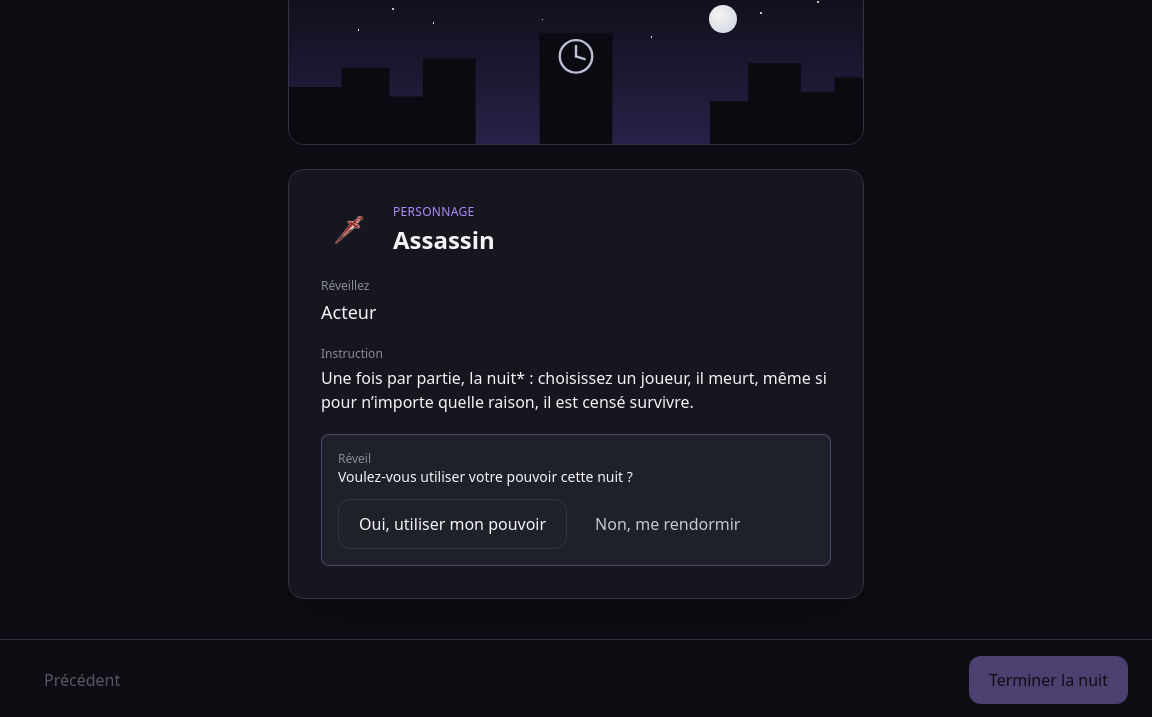
Bad Moon Rising - pouvoirs uniques › propose d’abord le choix Oui / Non au assassin
(page scrolled)
Step 1. Click the button "Oui, utiliser mon pouvoir" → (453, 524), box [338, 499, 567, 549]
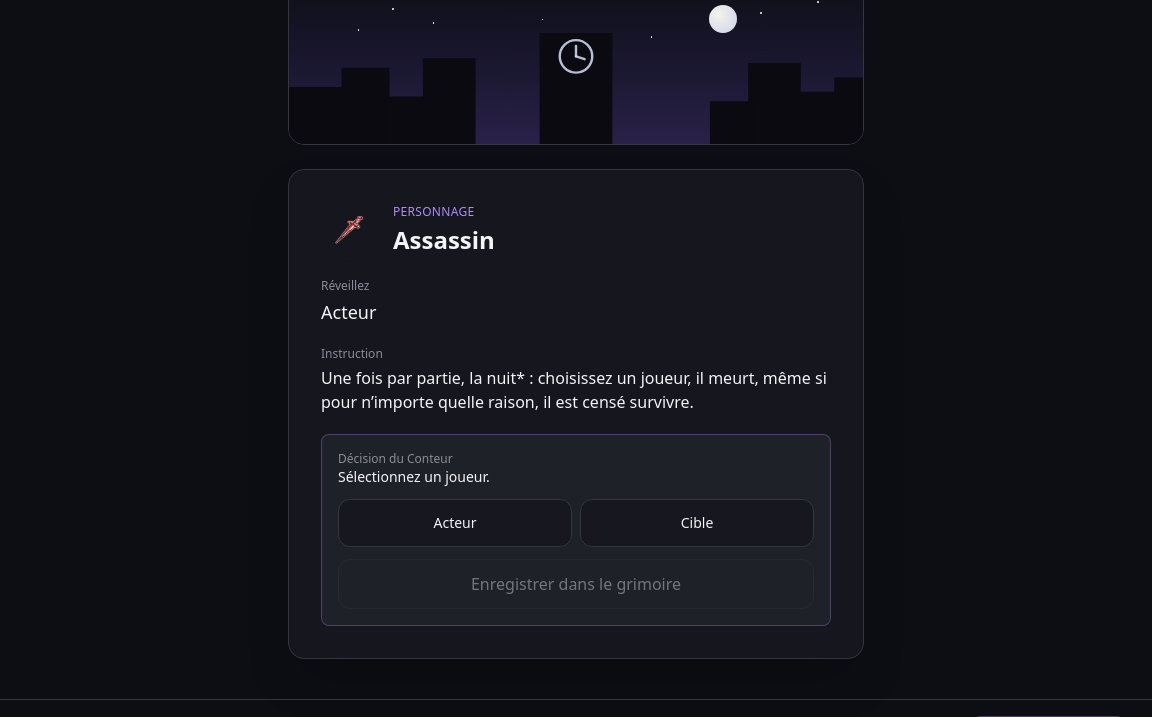
Check: the button "Cible" is shown, box [580, 499, 814, 547]
